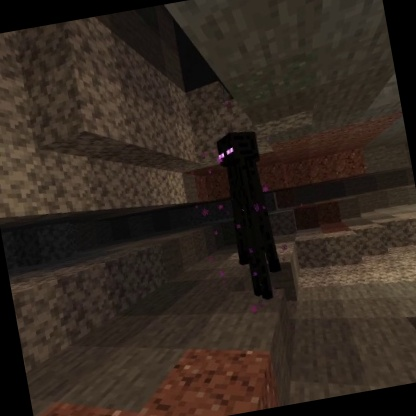enderman: (210, 124, 290, 307)
